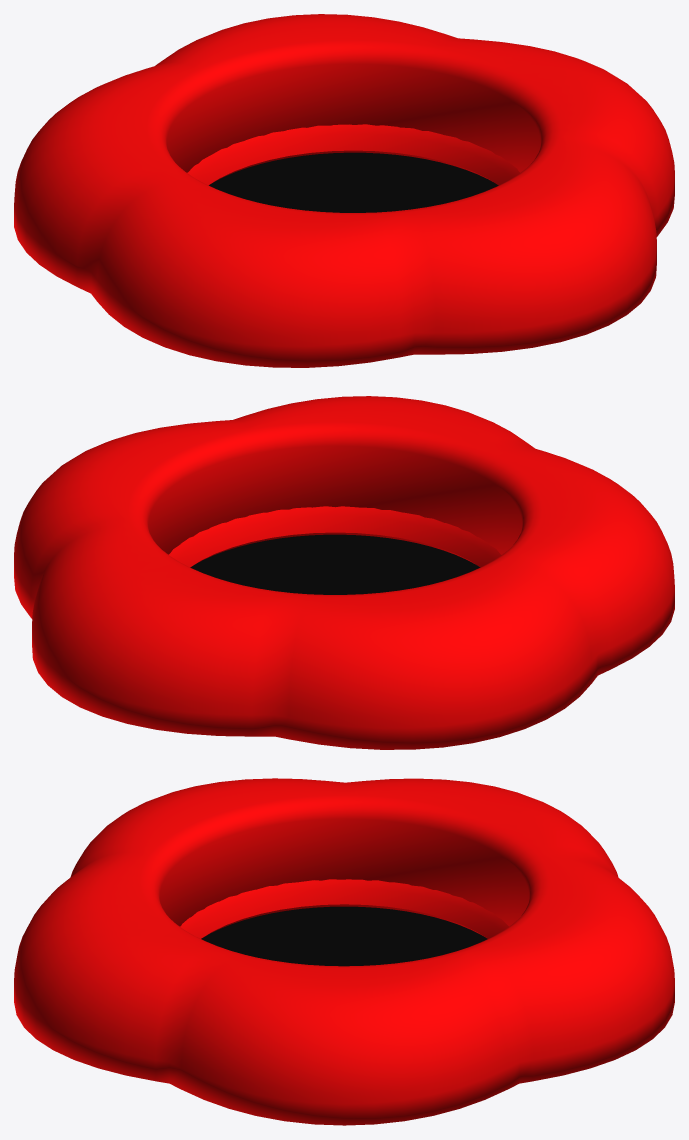
File: cong tron.fbx
3 renders of one model, top to bottom at view 1: azimuth 30°, elevation 25°; view 2: azimuth 150°, elevation 25°; view 3: azimuth 270°, elevation 25°, orthographic.
Parts seen in each view (by area): view 1: hoa, matphang, tron; view 2: hoa, matphang, tron; view 3: hoa, matphang, tron.
Boxes of the visible parts, x1,y1,x2,y2 form: hoa: (14, 14, 674, 367); matphang: (209, 152, 498, 212); tron: (187, 124, 519, 185); hoa: (14, 396, 674, 749); matphang: (190, 534, 480, 594); tron: (168, 506, 501, 567); hoa: (14, 778, 674, 1125); matphang: (201, 906, 487, 966); tron: (180, 879, 508, 938).
Size of the model in its own units: 58.42 by 10 by 59.53.
